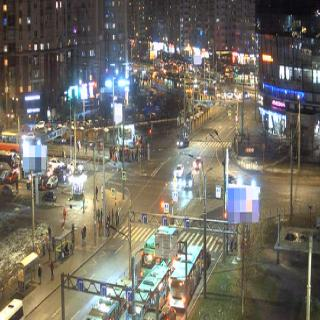large-vehicle: (127, 258, 169, 320), (169, 242, 202, 313), (140, 228, 178, 278), (84, 282, 133, 320)
small-vehicle: (196, 241, 212, 269), (159, 301, 178, 320), (174, 132, 191, 152), (183, 166, 195, 194), (172, 159, 184, 180), (67, 159, 82, 175), (48, 157, 63, 171), (193, 155, 203, 173), (6, 170, 19, 182)
